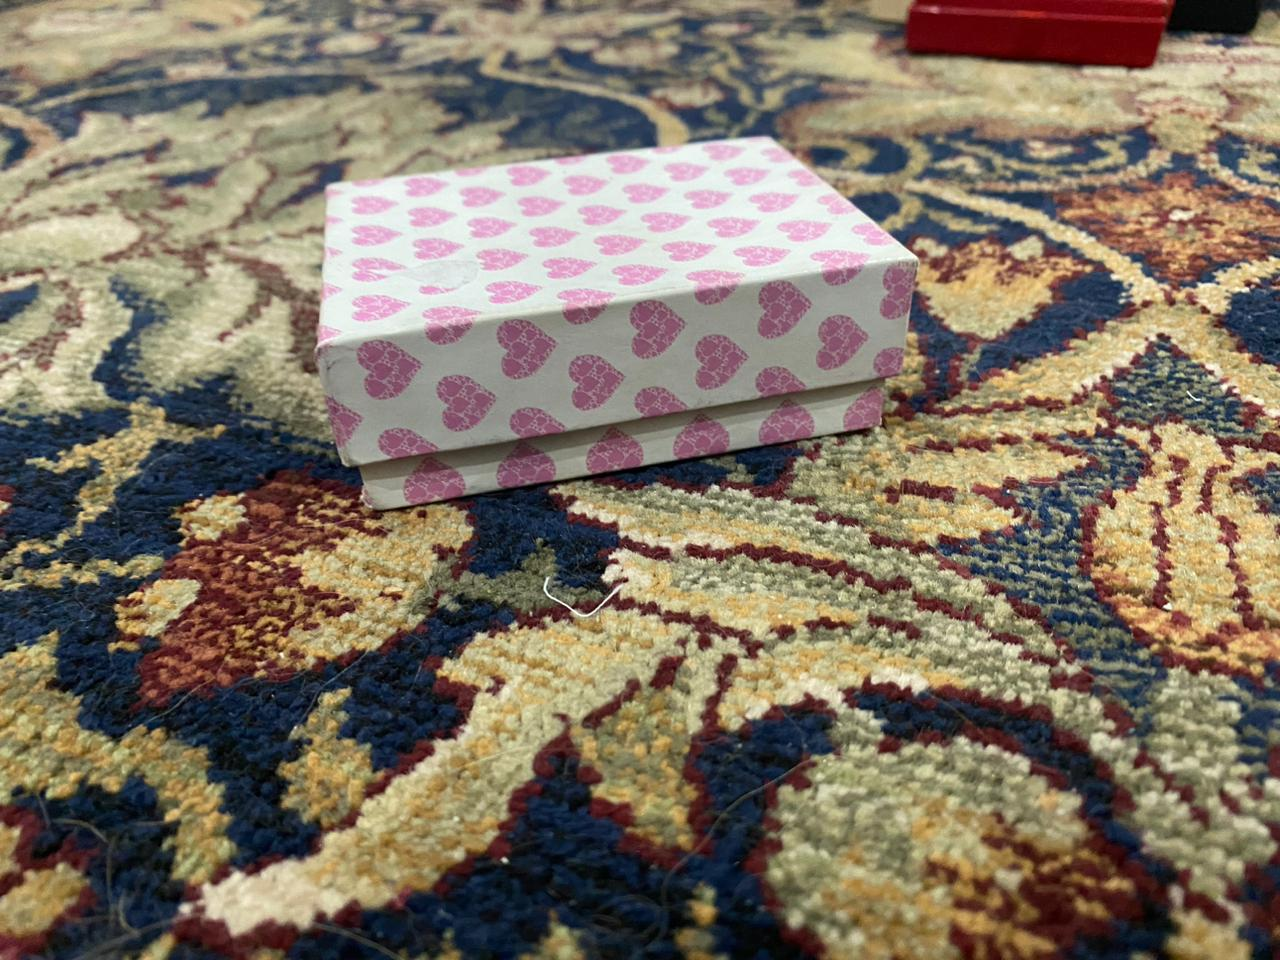Pink Box: (314, 130, 920, 519)
Red Box: (904, 2, 1171, 74)
